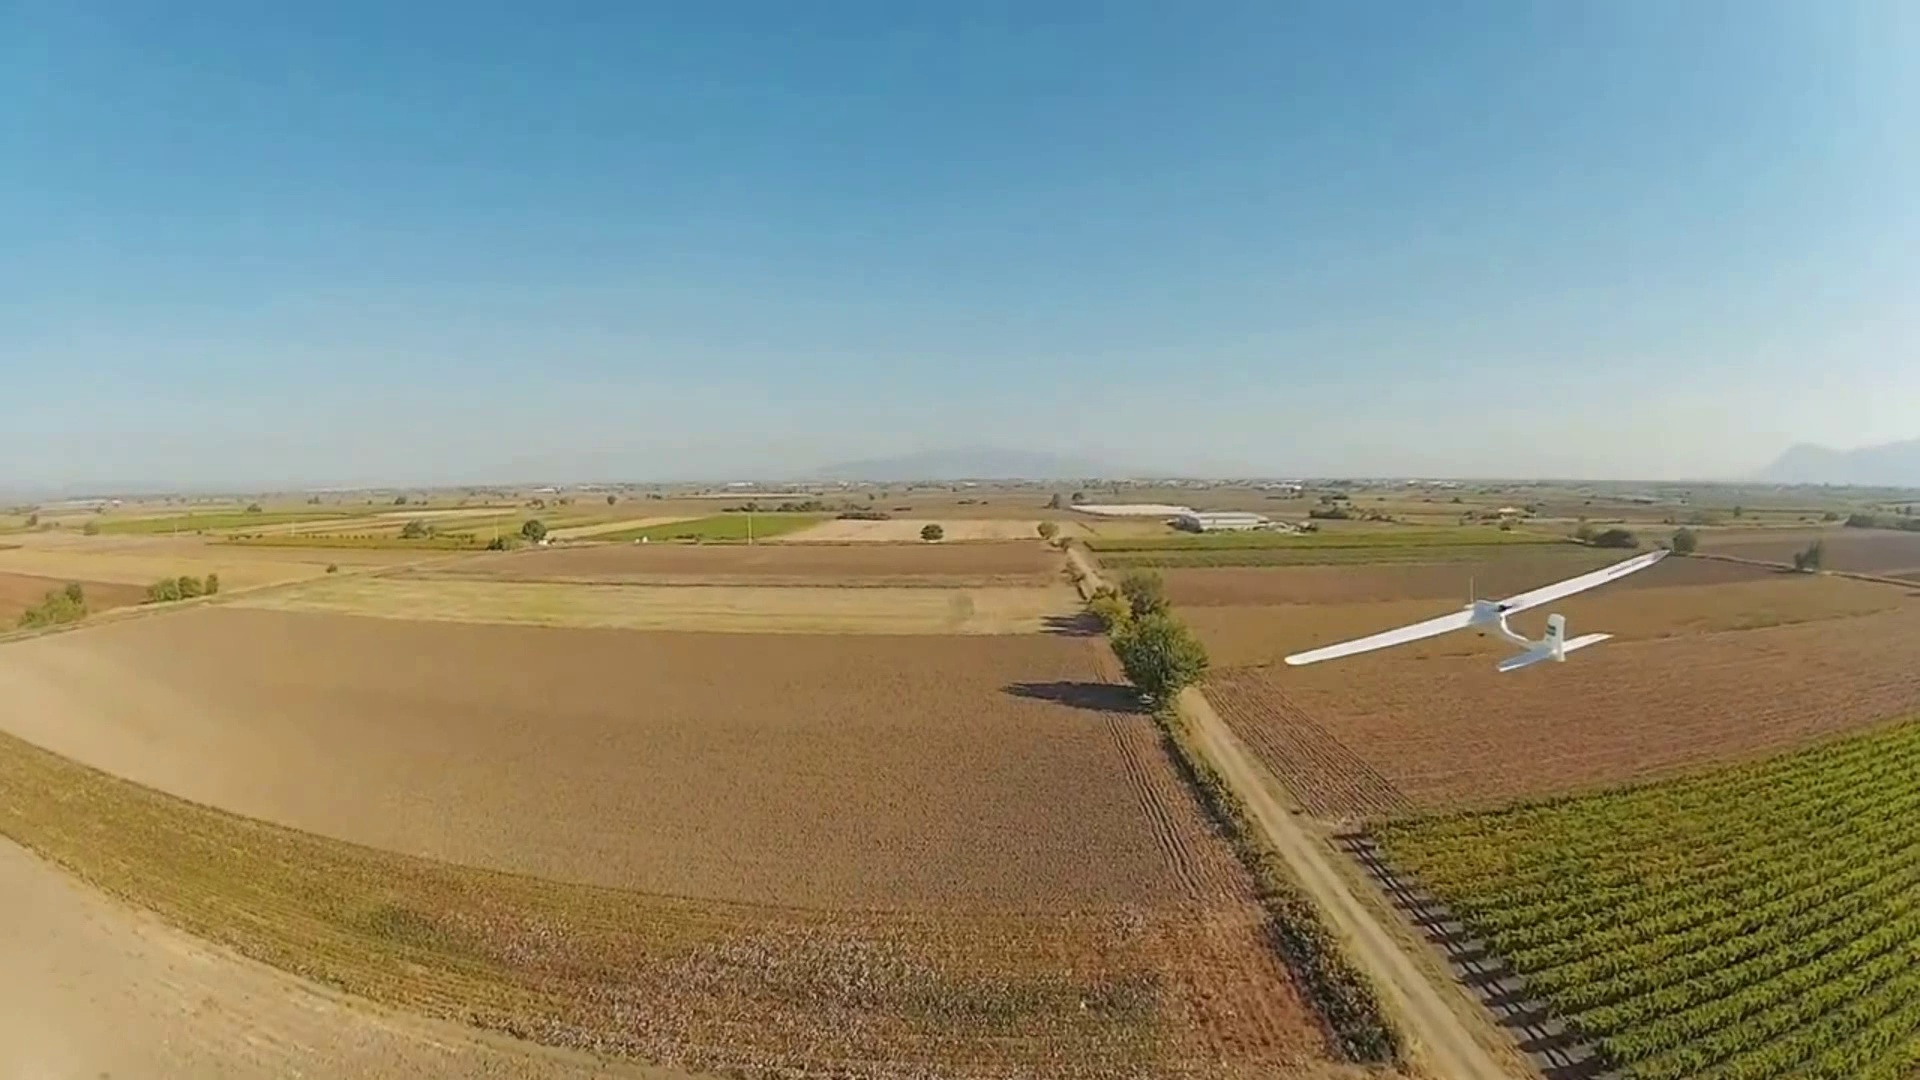airplane: (1283, 542, 1683, 669)
